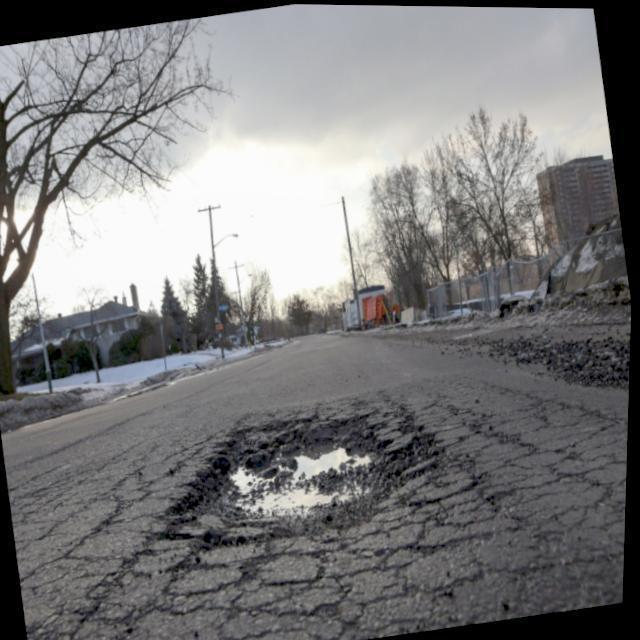Pothole: (190, 423, 411, 535)
